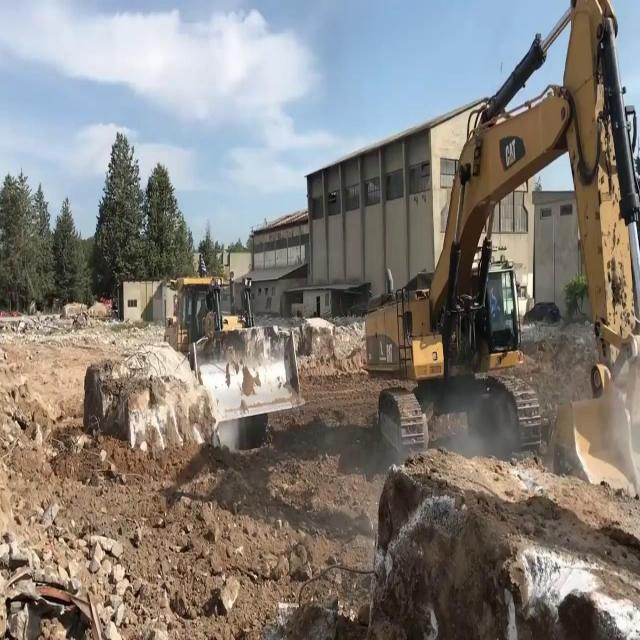Excavator: (367, 1, 639, 485)
Loader: (165, 273, 301, 446)
